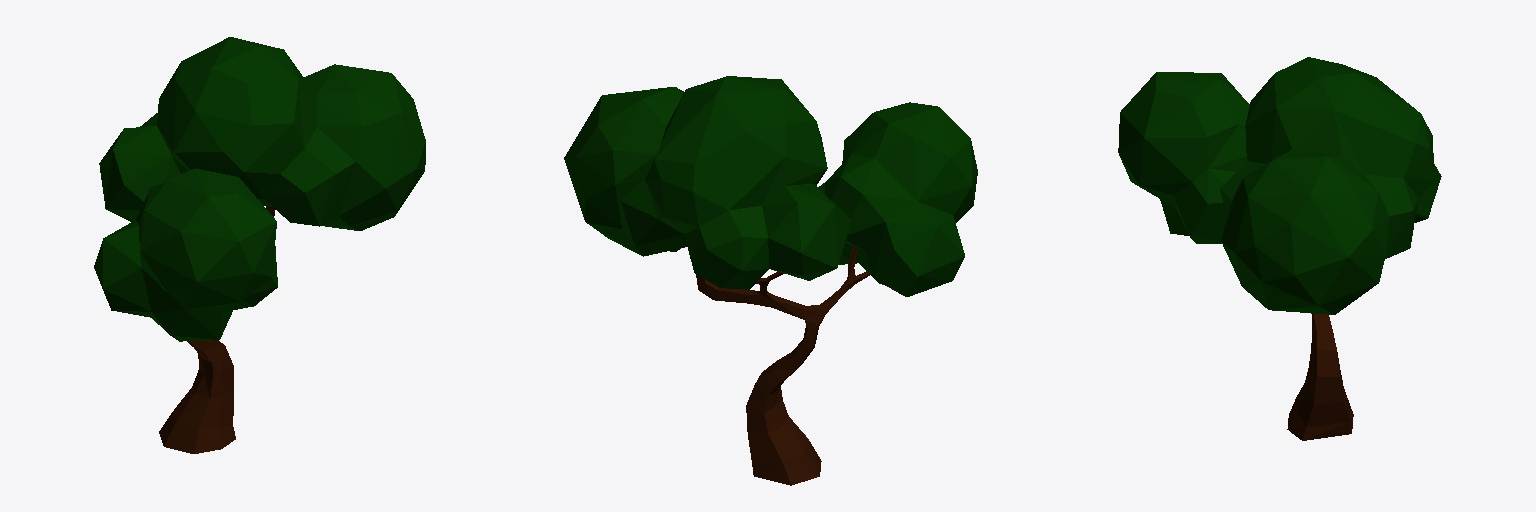
Rendered from tree.obj.
3 views of the same model, side by side, from view 1: azimuth 30°, elevation 25°; view 2: azimuth 150°, elevation 25°; view 3: azimuth 270°, elevation 25° (orthographic).
Visible parts, largest first — view 1: LowPoly_Tree_07_lowpoly_tree_04_Plane.002; view 2: LowPoly_Tree_07_lowpoly_tree_04_Plane.002; view 3: LowPoly_Tree_07_lowpoly_tree_04_Plane.002.
Part boxes in pixels (left/top/right/bottom): LowPoly_Tree_07_lowpoly_tree_04_Plane.002: left=94, top=37, right=425, bottom=453; LowPoly_Tree_07_lowpoly_tree_04_Plane.002: left=564, top=76, right=977, bottom=485; LowPoly_Tree_07_lowpoly_tree_04_Plane.002: left=1118, top=57, right=1441, bottom=440.
Size of the model in its own units: 4.16 by 4.3 by 3.33.